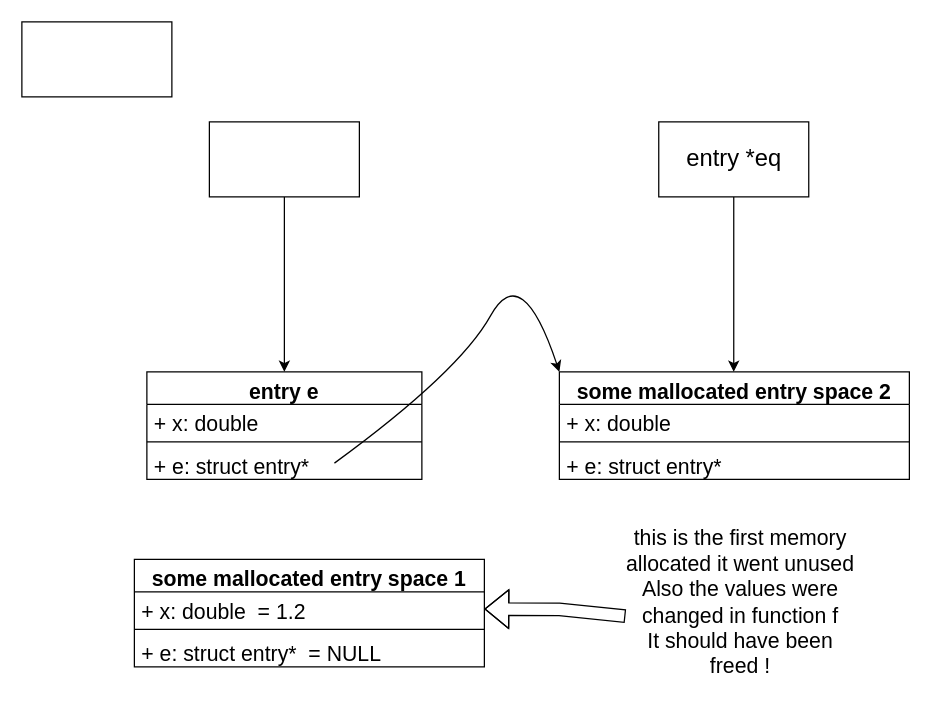
The diagram is 931 pixels wide and 701 high, and some of its shapes have lost their labels. The centre of each missing label's shape, as x and y in pixels:
entry *ep: point (283, 159)
Q2: point (96, 59)
